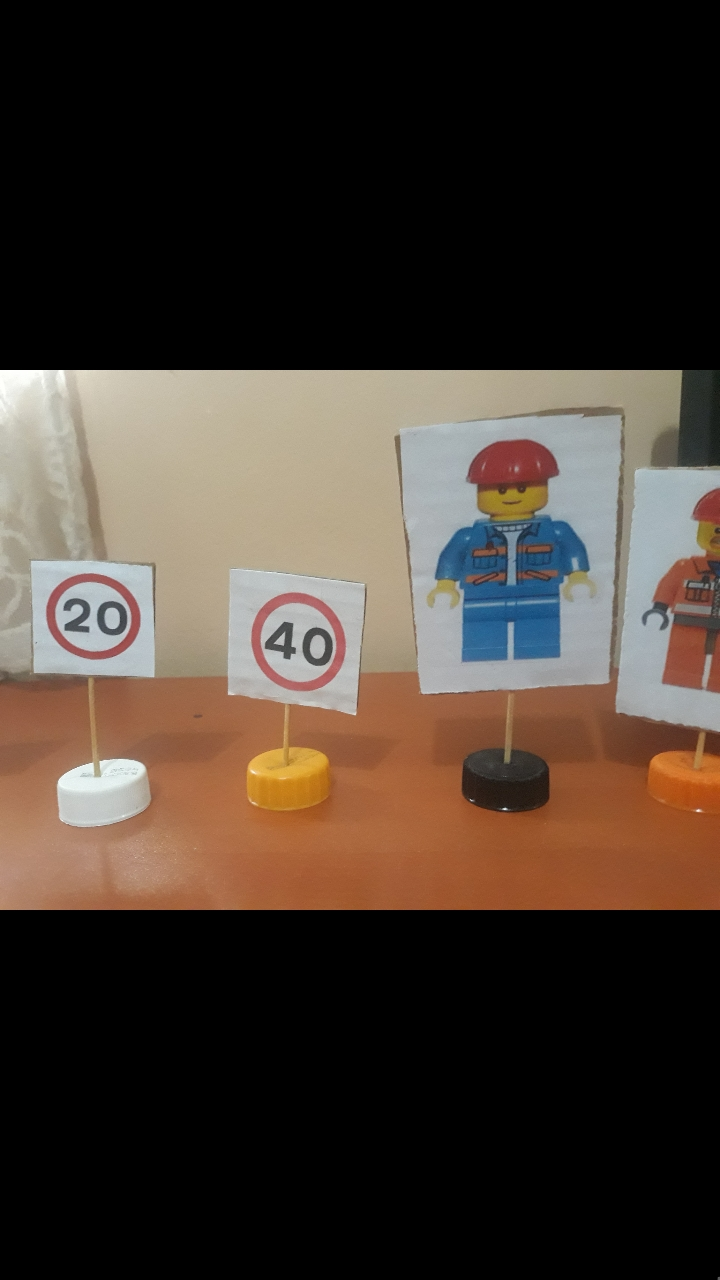20 kph: (28, 559, 148, 678)
40 kph: (234, 566, 359, 714)
pedestrian: (420, 433, 606, 686), (644, 482, 720, 725)
